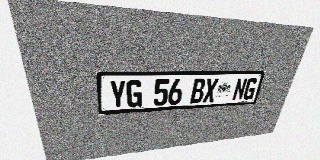5: (153, 79, 170, 106)
6: (168, 79, 184, 105)
B: (190, 78, 206, 104)
G: (126, 80, 143, 108), (242, 78, 259, 100)
N: (232, 78, 248, 101)
X: (202, 78, 219, 103)
Y: (109, 80, 126, 109)
